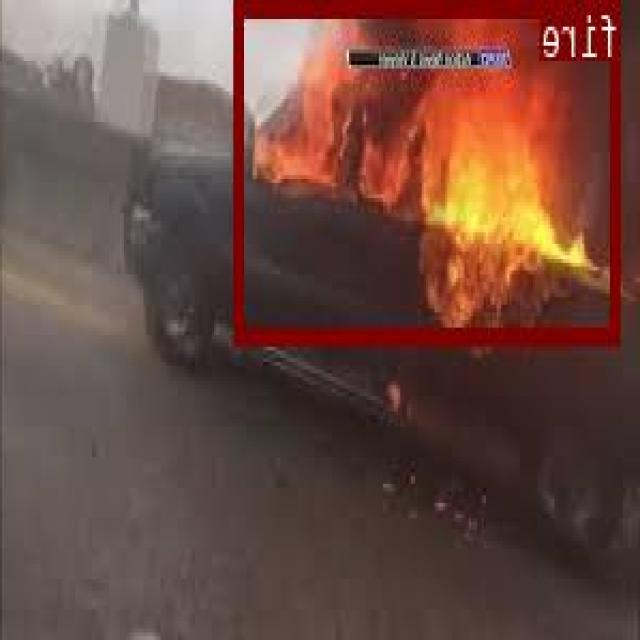fire: (236, 0, 622, 343)
